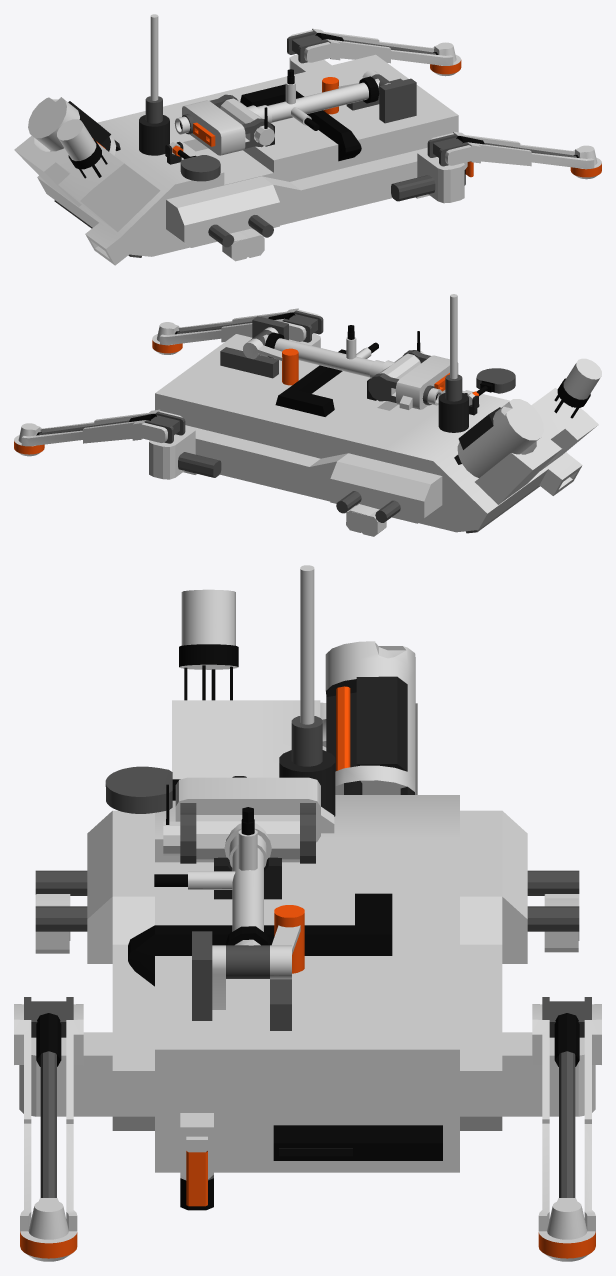
File: RoverCuerpo.obj
3 views of the same model, one above another, from view 1: azimuth 30°, elevation 25°; view 2: azimuth 150°, elevation 25°; view 3: azimuth 270°, elevation 25° (orthographic). The views are drawn at different scales.
Parts seen in each view (by area): view 1: Cuerpo; view 2: Cuerpo; view 3: Cuerpo.
Boxes of the visible parts, x1,y1,x2,y2 form: Cuerpo: (14,14,601,265); Cuerpo: (14,294,601,536); Cuerpo: (14,565,601,1261).
Bounding box in the file's own units: 12.48 × 5.1 × 6.94.
